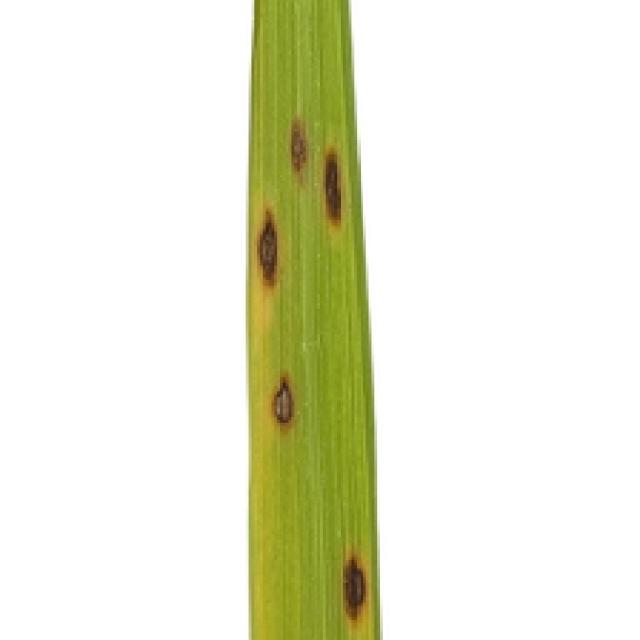Rice___Rice_Blast: (245, 0, 382, 637)
